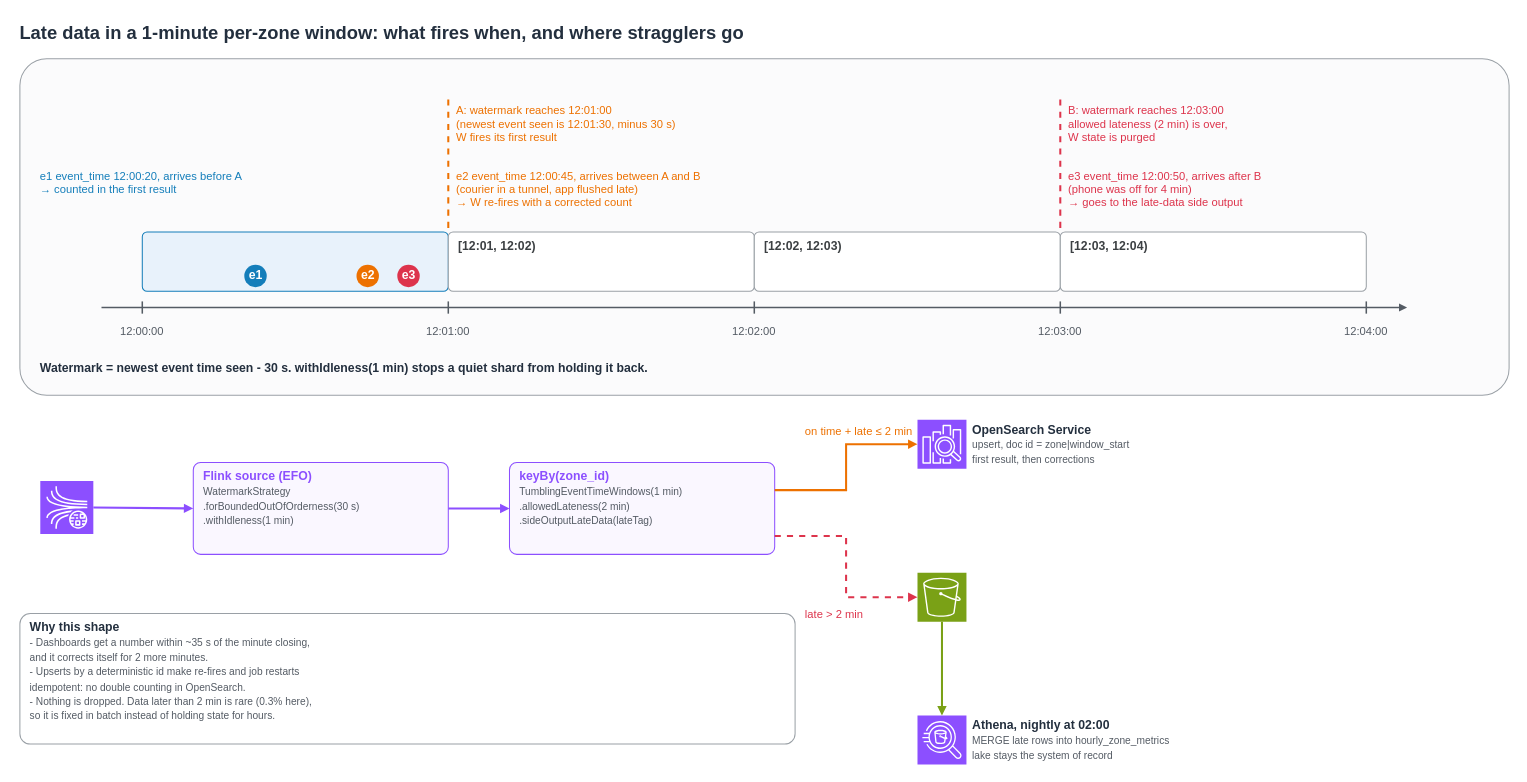
Some shapes in this 1527 by 782 pixel diagram are drawn without their labels. The shapes that lost their labels are listed below. From the top down, each one's box as (x1, y1, x2, y2) in pixels, then its label:
(19, 58, 1509, 395): Event time (when the courier app captured the event)
(141, 231, 448, 291): window W [12:00, 12:01)
(39, 480, 93, 534): courier-locations app-events, orders
(916, 572, 966, 622): S3 late/ prefix Iceberg table, partitioned by hour
